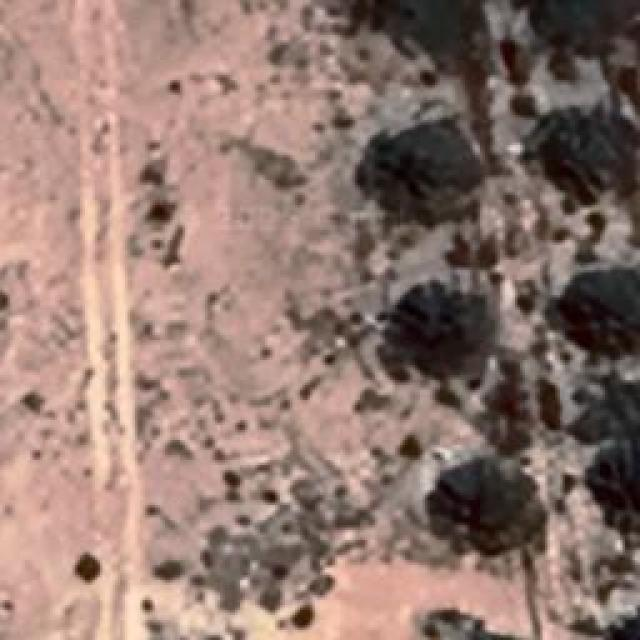PalmTree: (55, 93, 612, 625), (56, 31, 612, 494), (378, 120, 476, 218), (438, 465, 530, 560), (392, 290, 480, 372), (547, 107, 640, 184), (566, 262, 639, 330), (534, 0, 622, 47), (414, 611, 523, 640), (335, 0, 424, 32), (334, 0, 419, 23), (585, 620, 640, 640), (0, 276, 10, 362)
